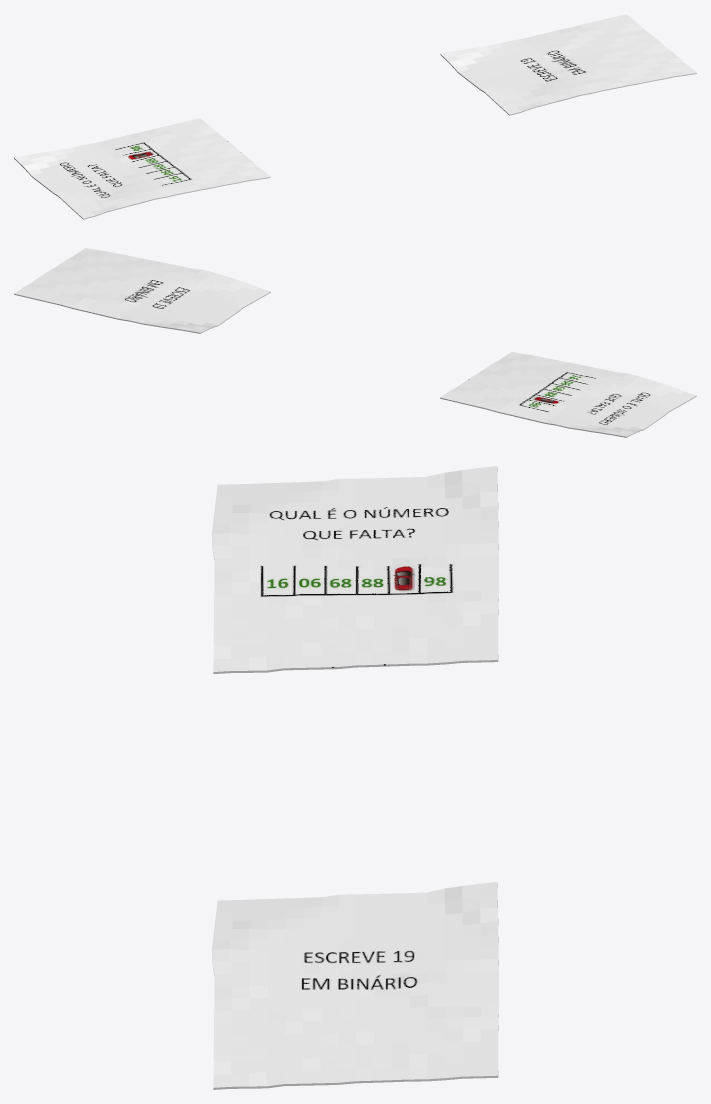
Rendered from NewEnigmasV2.fbx.
3 views of the same model, one above another, from view 1: azimuth 30°, elevation 25°; view 2: azimuth 150°, elevation 25°; view 3: azimuth 270°, elevation 25° (orthographic). The views are drawn at different scales.
Visible parts, largest first — view 1: Papel4, Papel1; view 2: Papel1, Papel4; view 3: Papel4, Papel1.
Part boxes in pixels (<box>): Papel4: <box>440,14,696,115</box>; Papel1: <box>14,118,270,219</box>; Papel1: <box>440,352,696,437</box>; Papel4: <box>14,248,270,333</box>; Papel4: <box>211,882,499,1089</box>; Papel1: <box>211,466,499,673</box>.
Bounding box in the file's own units: 26.33 × 0.5536 × 5.35.
2 materials, 2 textured.
